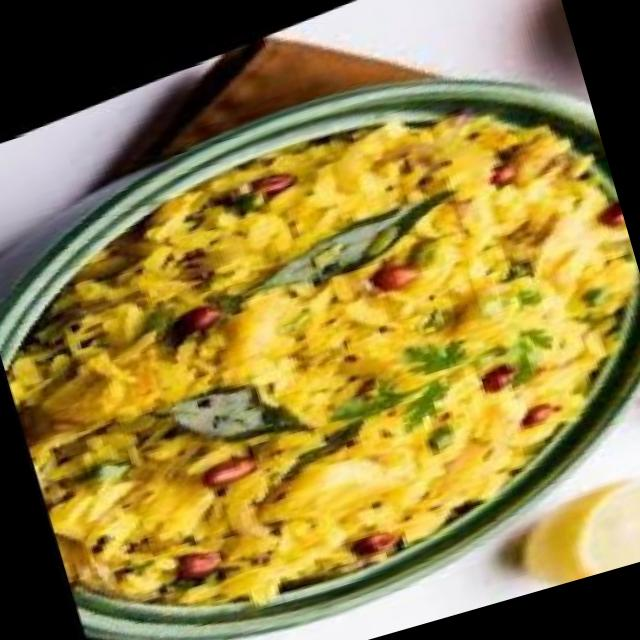poha: (0, 30, 640, 640)
